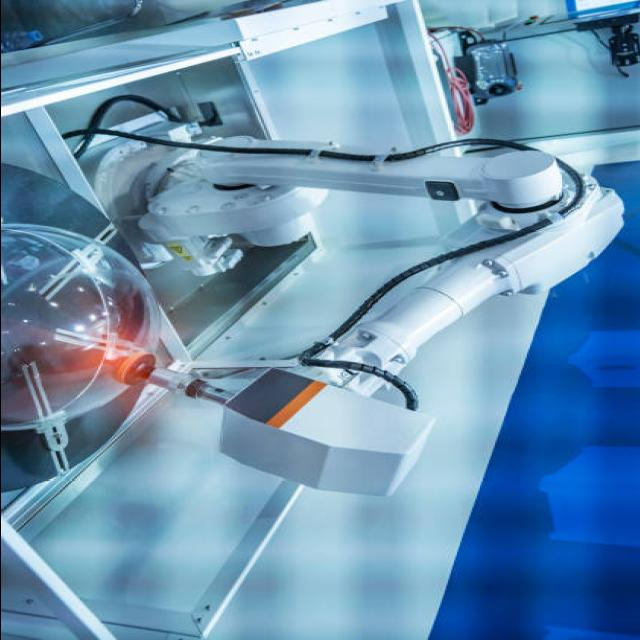Robotic-arm: (119, 128, 629, 396)
